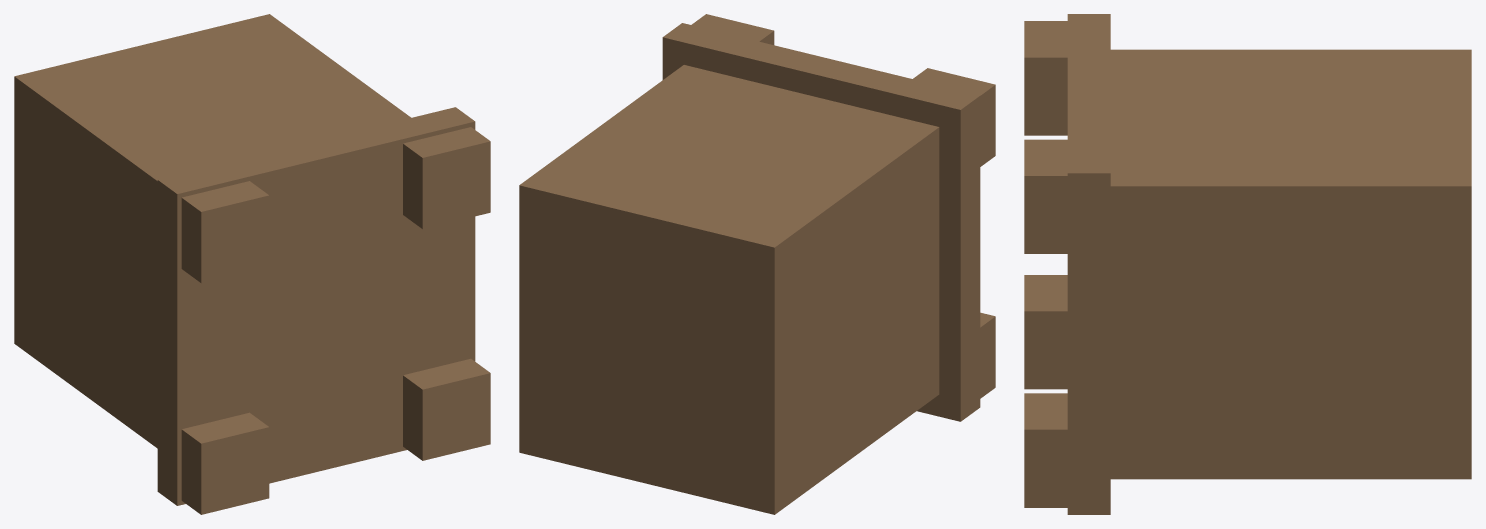
Rendered from SM_Babylon_Bastion_Tower.obj.
3 renders of one model, left to right at view 1: azimuth 30°, elevation 25°; view 2: azimuth 150°, elevation 25°; view 3: azimuth 270°, elevation 25°, orthographic. The views are drawn at different scales.
Parts seen in each view (by area): view 1: Mudbrick; view 2: Mudbrick; view 3: Mudbrick.
Boxes of the visible parts, x1,y1,x2,y2 form: Mudbrick: (14, 14, 490, 514); Mudbrick: (519, 14, 995, 514); Mudbrick: (1024, 14, 1471, 514).
Bounding box in the file's own units: 700 × 700 × 830.
